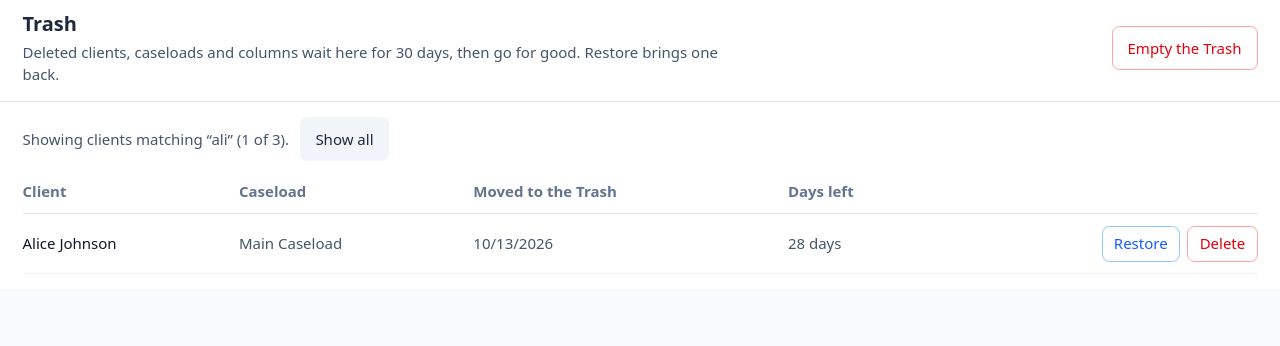
Scenario: TrashView — opened from a search that found nothing in the list (persona study R3) › shows the records matching the search, and Show all brings back the rest
Expected: the text "Alice Johnson" is shown, [22,214,239,273]
Expected: the text "Bob Williams" is not shown
Click the button "Show all" at (344, 139), box [300,117,388,161]
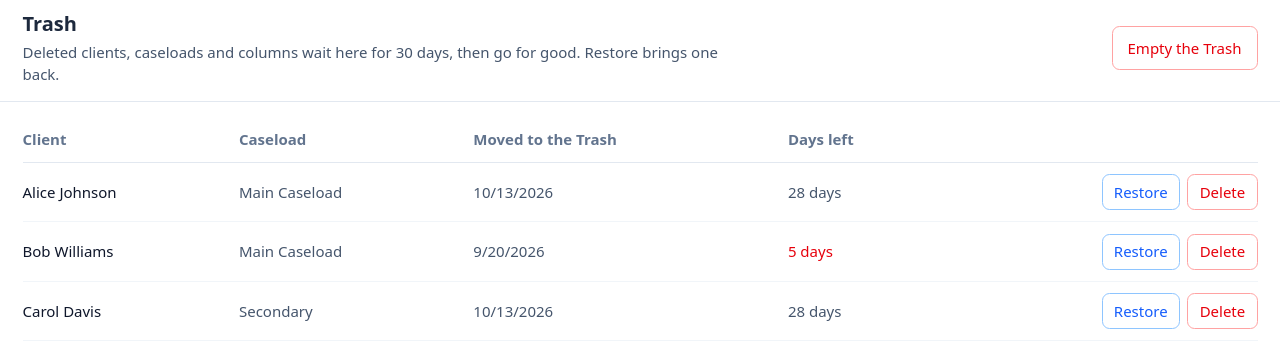
Now the text "Bob Williams" is shown, box [22,222,239,281]
